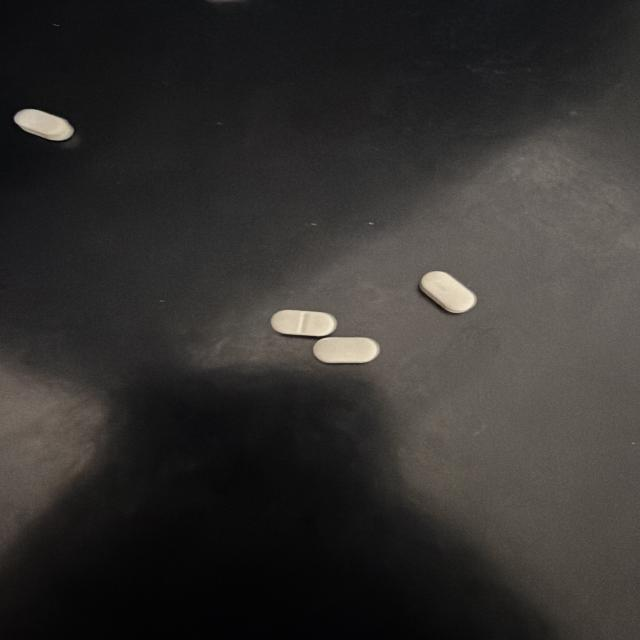pill: (420, 272, 476, 313), (14, 109, 74, 141), (271, 310, 336, 336), (314, 338, 379, 363)
